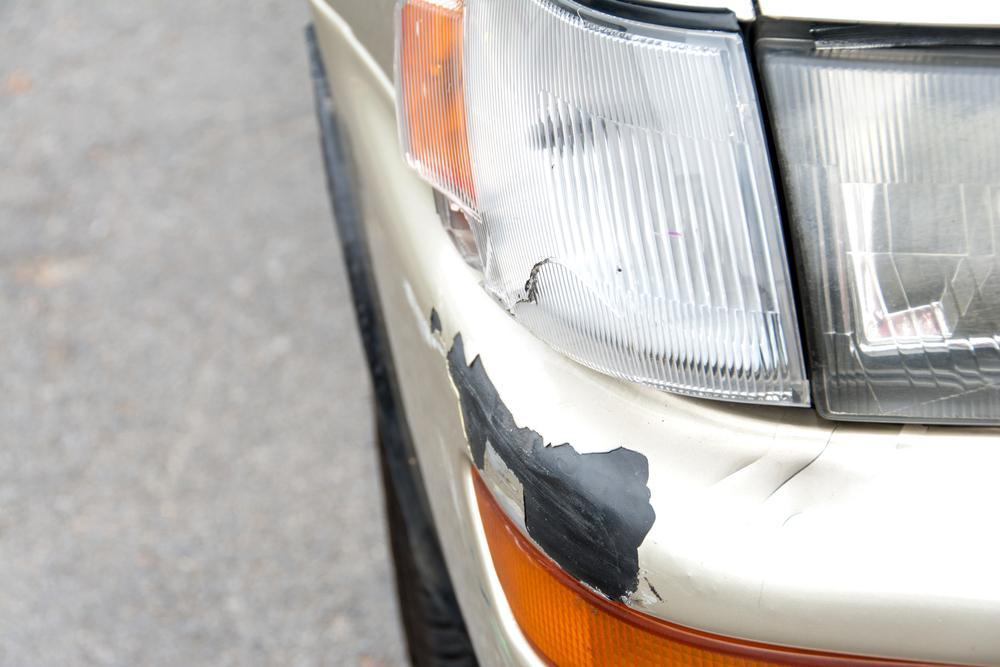lamp broken: (393, 0, 816, 415)
scratch: (402, 283, 663, 612)
